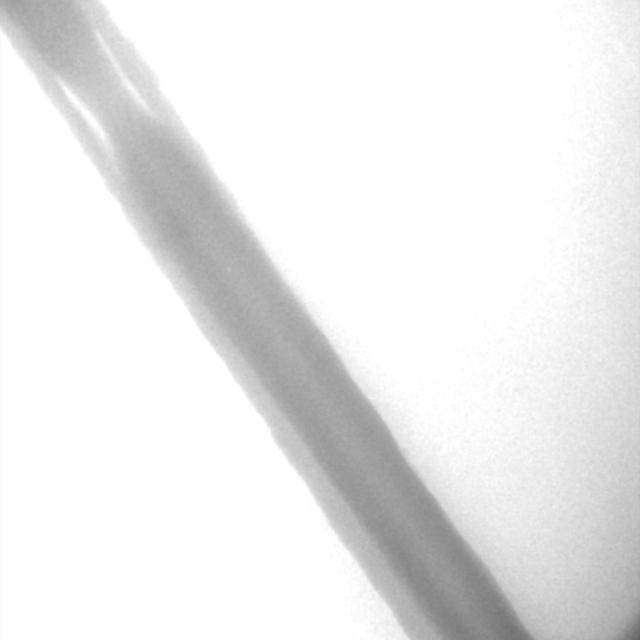unfused: (40, 56, 122, 204), (81, 0, 166, 130)
